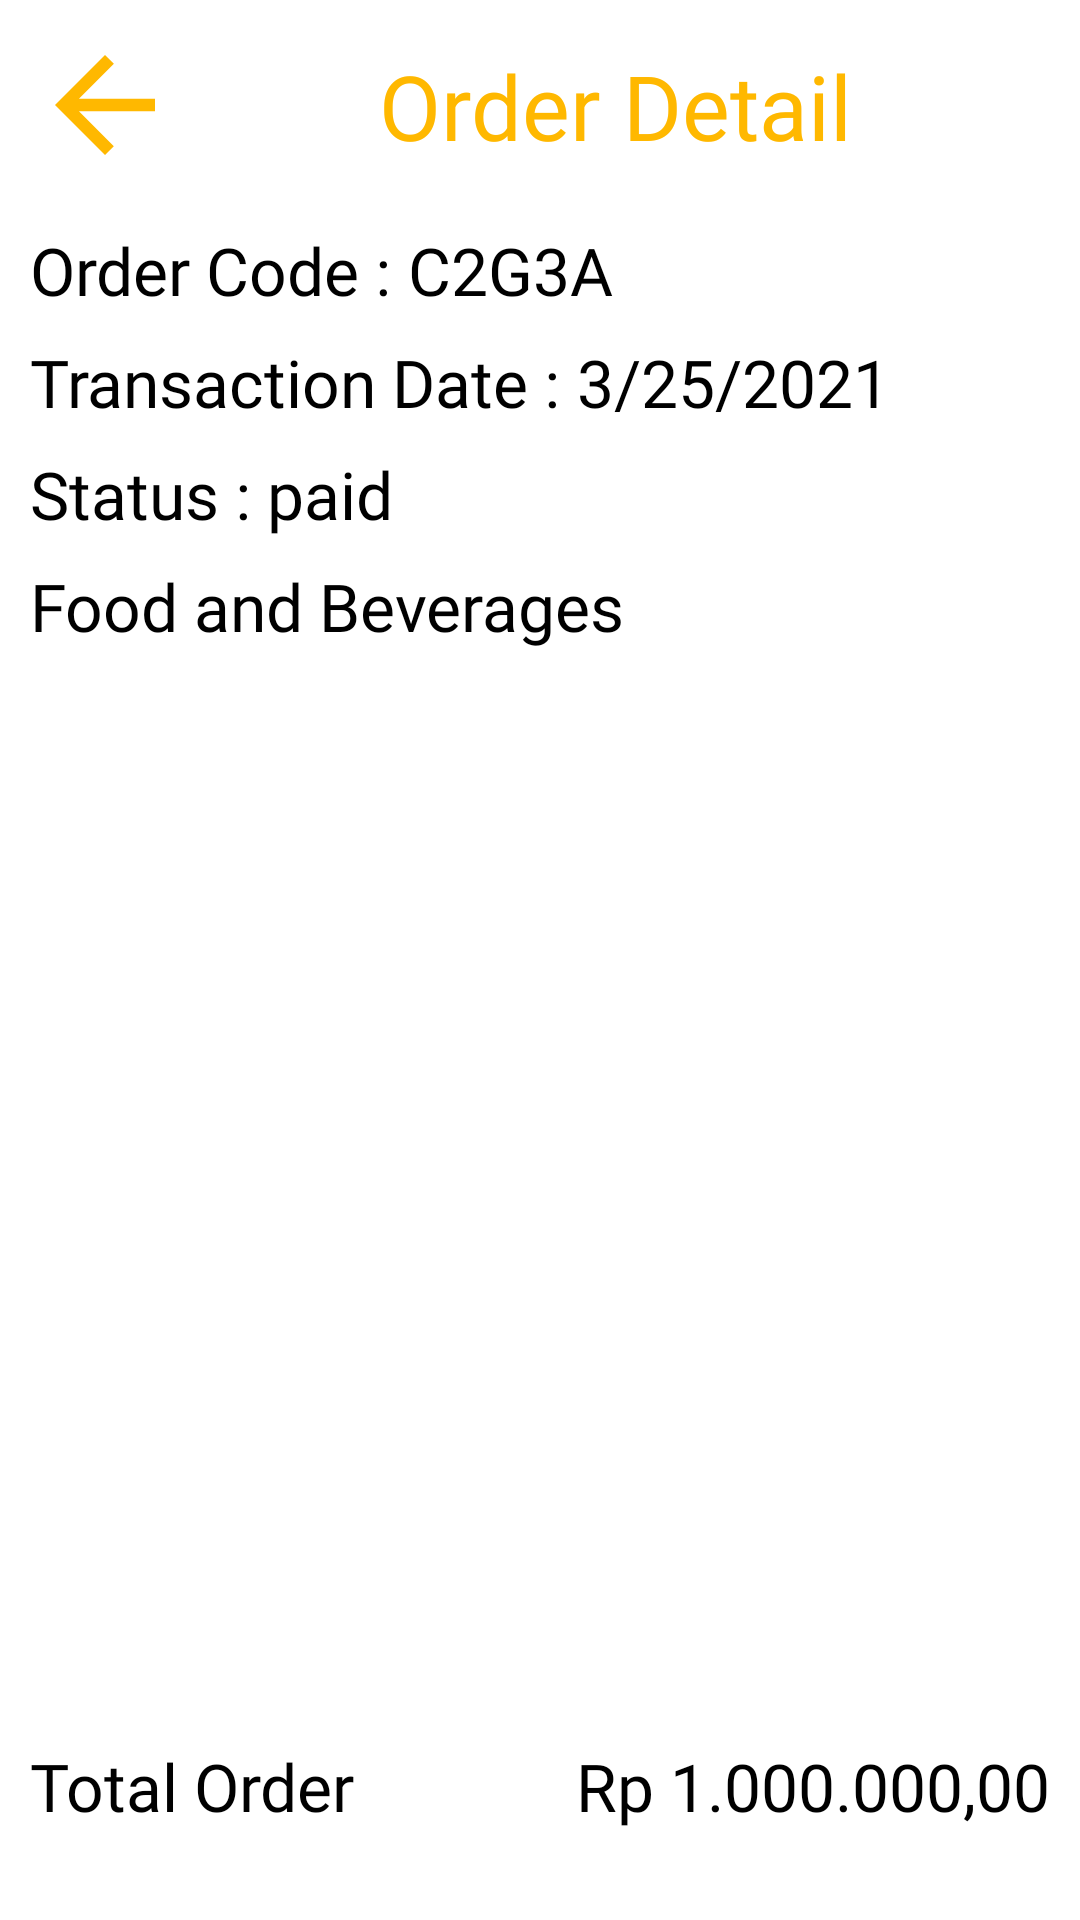

Icon click points for this 1080*1920 phone screenshot, format (x=x, y=y):
back: (x=105, y=105)
